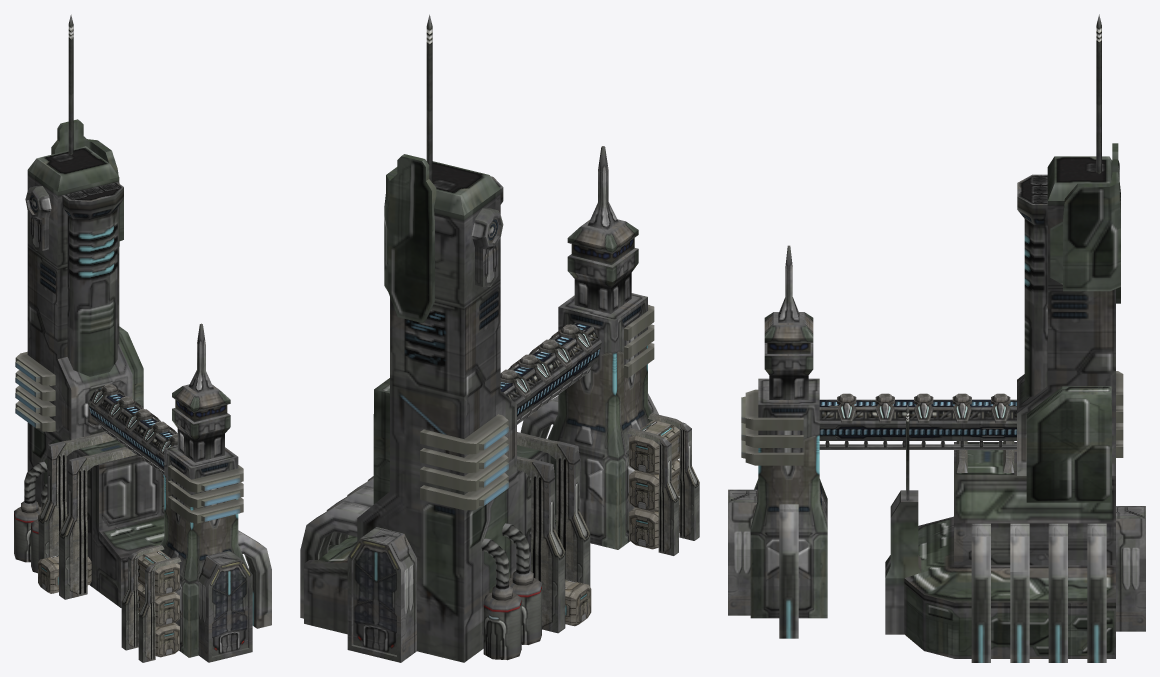
Rendered from structure_solfacility.fbx.
3 renders of one model, left to right at view 1: azimuth 30°, elevation 25°; view 2: azimuth 150°, elevation 25°; view 3: azimuth 270°, elevation 25°, orthographic. The views are drawn at different scales.
Visible parts, largest first — view 1: solfacility; view 2: solfacility; view 3: solfacility.
Part boxes in pixels (box(x1,y1,x2,y2)): solfacility: box(14, 14, 271, 662); solfacility: box(300, 14, 699, 662); solfacility: box(728, 14, 1145, 662).
Size of the model in its own units: 7.87 by 21.72 by 13.9.
1 material, 1 textured.
